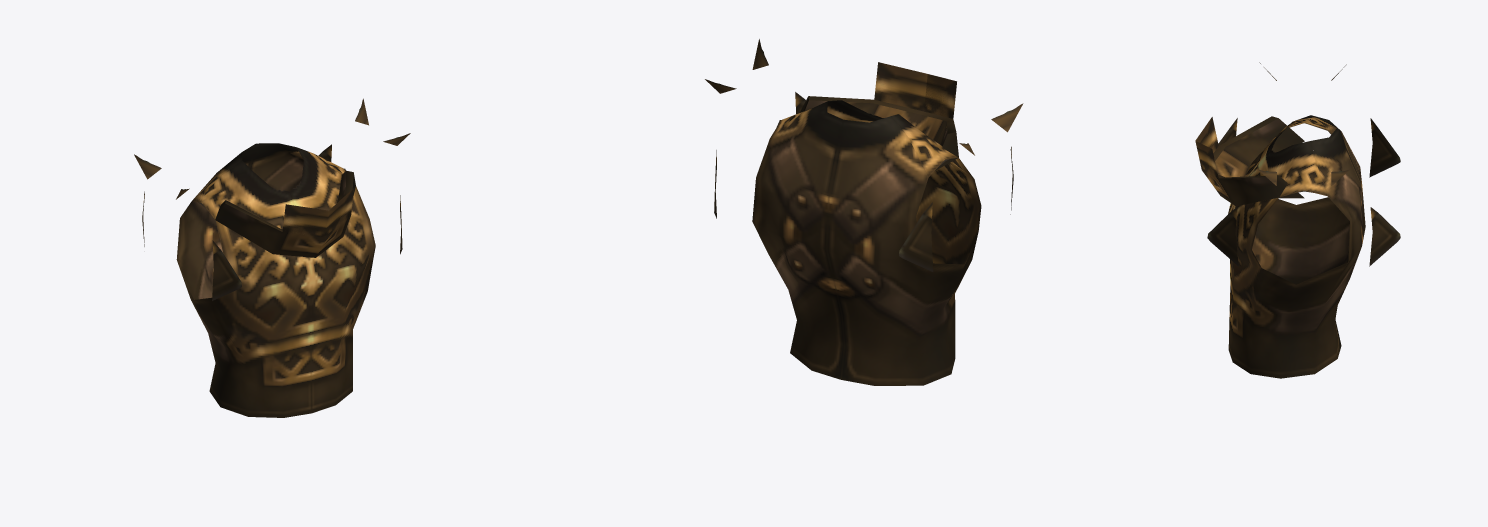
The model's file is hum_berserker_04_79770ef9.glb.
The picture shows the model from 3 angles, left to right: view 1: azimuth 30°, elevation 25°; view 2: azimuth 150°, elevation 25°; view 3: azimuth 270°, elevation 25°; orthographic projection. The views are drawn at different scales.
Bounding box in the file's own units: 1.69 × 1.17 × 0.8101.
Materials: 1 (1 with a texture image).
